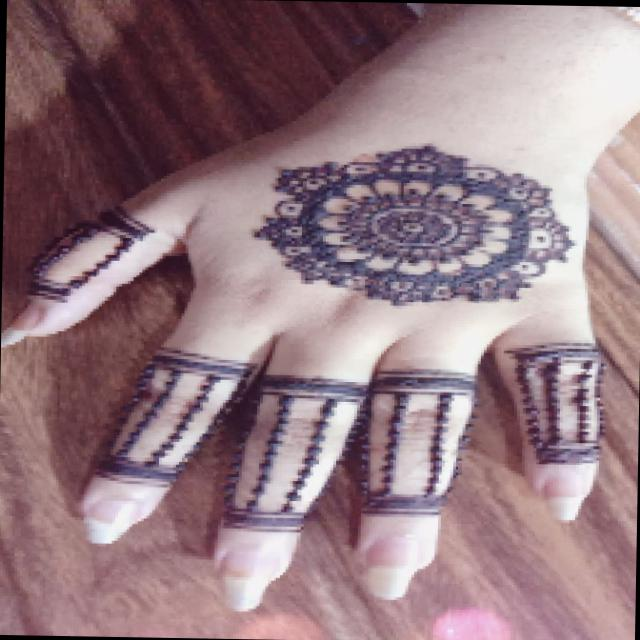Nail: (219, 543, 277, 610), (362, 536, 417, 599), (83, 499, 137, 543), (0, 297, 44, 349), (539, 469, 583, 520)
